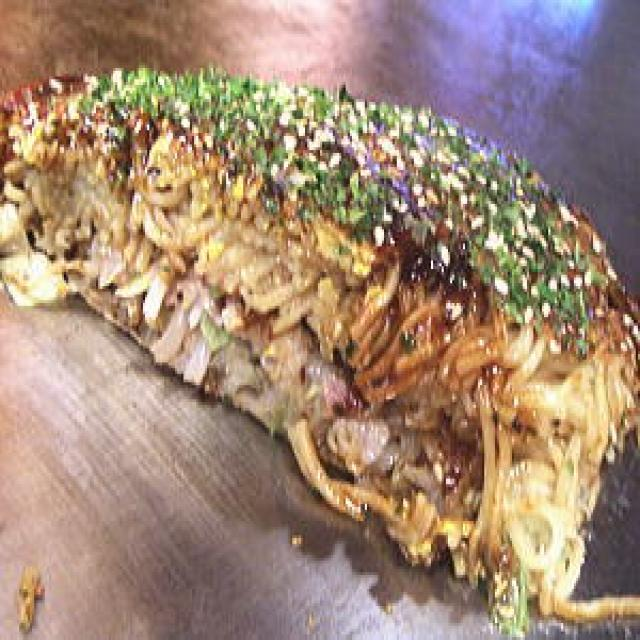蛋糕甜品: (0, 54, 640, 603)
